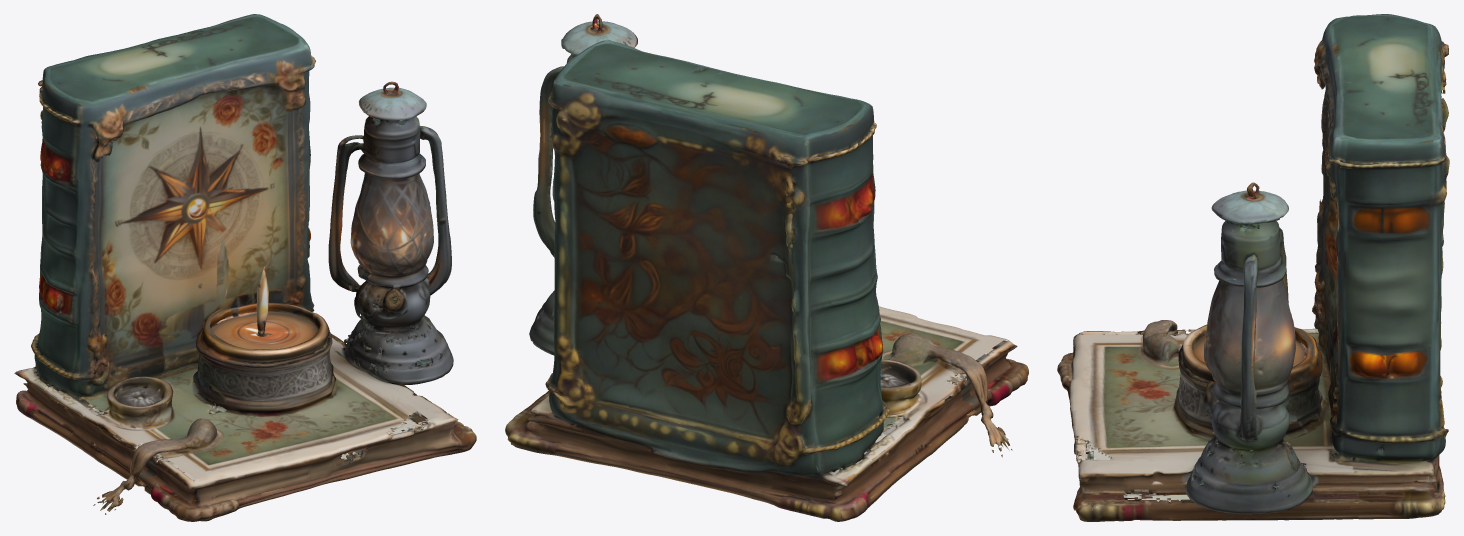
Rendered from Compass_and_Lantern_S_0613145906_texture.fbx.
3 views of the same model, side by side, from view 1: azimuth 30°, elevation 25°; view 2: azimuth 150°, elevation 25°; view 3: azimuth 270°, elevation 25° (orthographic). The views are drawn at different scales.
Visible parts, largest first — view 1: Mesh1; view 2: Mesh1; view 3: Mesh1.
Part boxes in pixels (x1,y1,x2,y2): Mesh1: [14, 14, 476, 521]; Mesh1: [505, 14, 1028, 521]; Mesh1: [1057, 14, 1449, 521].
Size of the model in its own units: 196 by 170 by 160.
1 material, 1 textured.
